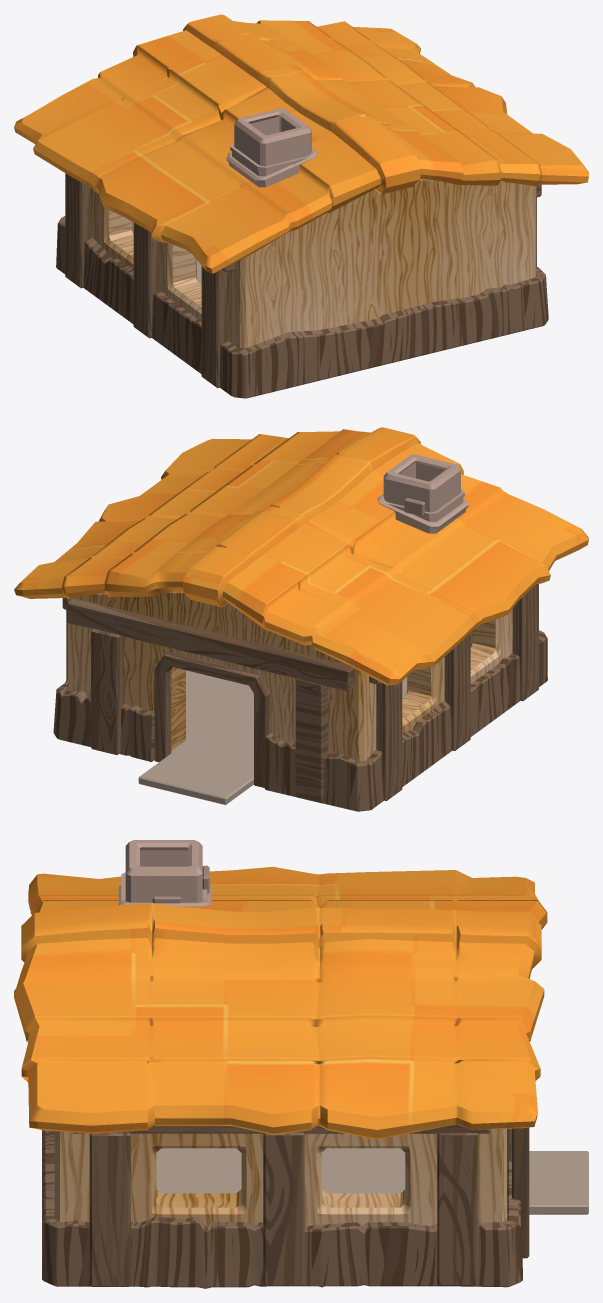
The model's file is level_1_house.fbx.
3 renders of one model, top to bottom at view 1: azimuth 30°, elevation 25°; view 2: azimuth 150°, elevation 25°; view 3: azimuth 270°, elevation 25°, orthographic. The views are drawn at different scales.
Visible parts, largest first — view 1: pasted__polySurface11, pasted__polySurface10, pasted__pCube21, pasted__pCube17, pasted__pCube26, pasted__pCube27, pasted__pCube28, pasted__pCube15, pasted__pCube20; view 2: pasted__polySurface11, pasted__polySurface10, pasted__pCube21, pasted__polySurface9, pasted__pCube31, pasted__pCube18, pasted__pCube29, pasted__pCube32, pasted__pCube17, pasted__pCube28, pasted__pCube26, pasted__pCube27 (+2 smaller); view 3: pasted__polySurface11, pasted__pCube21, pasted__polySurface10, pasted__polySurface9, pasted__pCube35, pasted__pCube34, pasted__pCube33, pasted__pCube17, pasted__pCube29, pasted__pCube36.
Part boxes in pixels (bbox=[...]): pasted__polySurface11: bbox=[14, 14, 588, 273]; pasted__polySurface10: bbox=[91, 179, 536, 348]; pasted__pCube21: bbox=[56, 216, 548, 398]; pasted__pCube17: bbox=[234, 108, 311, 166]; pasted__pCube26: bbox=[201, 266, 227, 388]; pasted__pCube27: bbox=[133, 222, 159, 338]; pasted__pCube28: bbox=[65, 173, 91, 288]; pasted__pCube15: bbox=[226, 148, 317, 187]; pasted__pCube20: bbox=[230, 143, 308, 176]; pasted__polySurface11: bbox=[14, 427, 588, 685]; pasted__polySurface10: bbox=[67, 591, 512, 761]; pasted__pCube21: bbox=[53, 630, 547, 811]; pasted__polySurface9: bbox=[138, 670, 406, 804]; pasted__pCube31: bbox=[67, 598, 354, 691]; pasted__pCube18: bbox=[154, 652, 270, 787]; pasted__pCube29: bbox=[91, 628, 123, 754]; pasted__pCube32: bbox=[295, 678, 328, 803]; pasted__pCube17: bbox=[383, 454, 460, 512]; pasted__pCube28: bbox=[376, 681, 402, 800]; pasted__pCube26: bbox=[512, 584, 538, 701]; pasted__pCube27: bbox=[444, 633, 470, 750]; pasted__polySurface11: bbox=[14, 867, 547, 1139]; pasted__pCube21: bbox=[42, 1130, 522, 1288]; pasted__polySurface10: bbox=[54, 1128, 506, 1226]; pasted__polySurface9: bbox=[156, 1148, 588, 1219]; pasted__pCube35: bbox=[89, 1132, 130, 1286]; pasted__pCube34: bbox=[263, 1132, 304, 1286]; pasted__pCube33: bbox=[437, 1133, 478, 1285]; pasted__pCube17: bbox=[125, 840, 202, 902]; pasted__pCube29: bbox=[512, 1127, 529, 1258]; pasted__pCube36: bbox=[72, 1124, 490, 1133].
Size of the model in its own units: 9.3 by 4.9 by 8.92.
